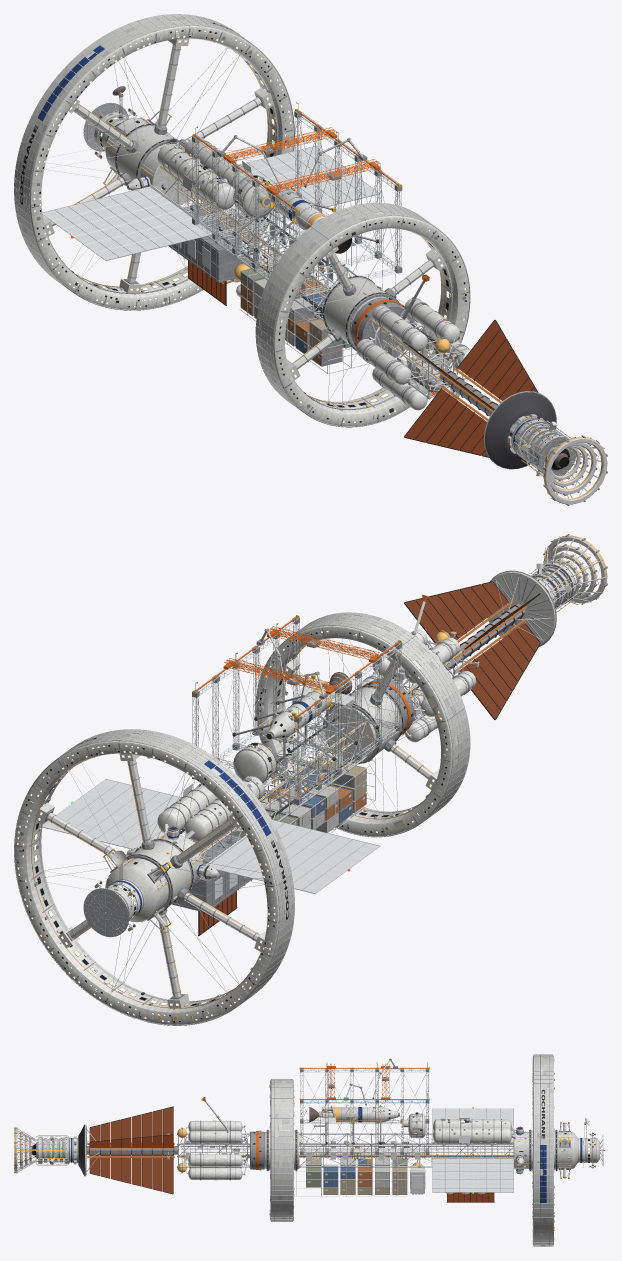
The model's file is cochrane.glb.
3 renders of one model, top to bottom at view 1: azimuth 30°, elevation 25°; view 2: azimuth 150°, elevation 25°; view 3: azimuth 270°, elevation 25°, orthographic. The views are drawn at different scales.
Parts seen in each view (by area): view 1: CochHull_grey, CochHull_truss, CochRingF_white_m, CochHull_radw, CochRingA_white_m, CochHull_hot, CochRingF_tile, CochRingA_tile, CochHull_tank, CochRingF_white_s, CochHull_white, CochHull_white_s (+17 smaller); view 2: CochRingF_white_m, CochHull_truss, CochHull_grey, CochHull_radw, CochHull_white, CochRingA_white_m, CochHull_hot, CochRingF_tile, CochRingA_tile, CochRingF_white_s, CochHull_white_s, CochRingF_grey (+19 smaller); view 3: CochHull_truss, CochHull_grey, CochHull_hot, CochHull_radw, CochRingF_tile, CochHull_white, CochRingA_tile, CochHull_white_s, CochHull_tank, CochHull_white_m, CochHull_silver, CochHull_gold (+17 smaller).
Boxes of the visible parts, x1,y1,x2,y2 form: CochHull_grey: (40,86,607,505); CochHull_truss: (87,97,603,503); CochRingF_white_m: (15,15,293,309); CochHull_radw: (41,146,544,453); CochRingA_white_m: (256,204,469,426); CochHull_hot: (404,320,536,456); CochRingF_tile: (14,14,294,310); CochRingA_tile: (255,202,470,427); CochHull_tank: (356,298,470,410); CochRingF_white_s: (33,29,292,307); CochHull_white: (105,117,534,447); CochHull_white_s: (94,86,570,476); CochRingF_white_m: (15,730,293,1024); CochHull_truss: (99,536,607,926); CochHull_grey: (42,534,607,930); CochHull_radw: (42,679,425,899); CochHull_white: (105,571,555,922); CochRingA_white_m: (257,614,469,836); CochHull_hot: (405,582,539,719); CochRingF_tile: (14,729,294,1025); CochRingA_tile: (255,612,470,837); CochRingF_white_s: (16,744,275,1023); CochHull_white_s: (95,562,577,930); CochRingF_grey: (14,730,293,1025); CochHull_truss: (15,1067,602,1196); CochHull_grey: (14,1058,607,1194); CochHull_hot: (90,1107,173,1193); CochHull_radw: (74,1107,513,1192); CochRingF_tile: (534,1054,552,1246); CochHull_white: (69,1107,577,1193); CochRingA_tile: (271,1079,292,1221); CochHull_white_s: (38,1060,596,1190); CochHull_tank: (188,1121,242,1179); CochHull_white_m: (433,1119,599,1162); CochHull_silver: (42,1106,571,1192); CochHull_gold: (15,1059,593,1177).
Size of the model in its own units: 163 by 156 by 482.
41 materials, 16 textured.
